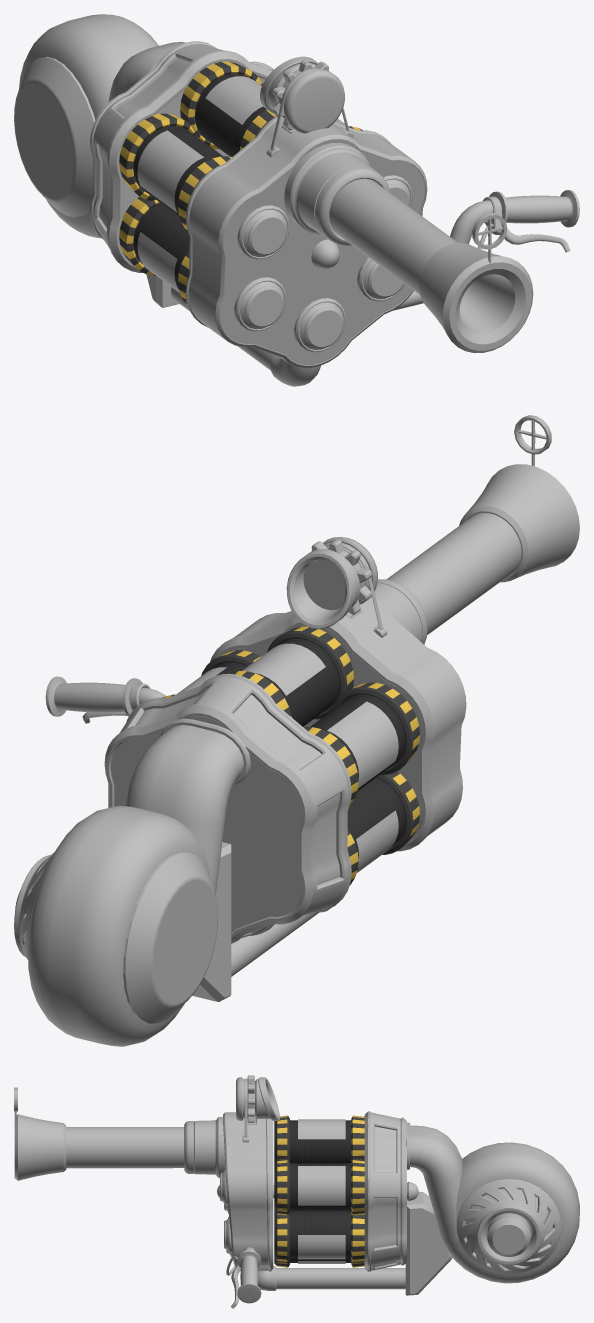
Rendered from FA2_Gun_fbx.fbx.
The picture shows the model from 3 angles, top to bottom: view 1: azimuth 30°, elevation 25°; view 2: azimuth 150°, elevation 25°; view 3: azimuth 270°, elevation 25°; orthographic projection. The views are drawn at different scales.
Parts seen in each view (by area): view 1: gunBody, chambers, barrel, gunBody.001, displayGear; view 2: gunBody, chambers, barrel, gunBody.001, spinny, displayGear; view 3: gunBody, chambers, barrel, spinny, gunBody.001, displayGear.
Part boxes in pixels (x1,y1,x2,y2): gunBody: (14, 14, 427, 386); chambers: (119, 61, 362, 304); barrel: (329, 178, 533, 352); gunBody.001: (392, 190, 579, 310); displayGear: (272, 60, 338, 130); gunBody: (27, 537, 466, 1046); chambers: (162, 626, 419, 885); barrel: (386, 415, 579, 634); gunBody.001: (45, 676, 165, 723); spinny: (14, 852, 54, 959); displayGear: (311, 539, 372, 614); gunBody: (184, 1077, 579, 1295); chambers: (217, 1115, 418, 1267); barrel: (14, 1087, 184, 1180); spinny: (456, 1179, 561, 1274); gunBody.001: (226, 1247, 261, 1308); displayGear: (247, 1075, 254, 1122).
Size of the model in its own units: 6.82 by 5.82 by 14.04.
